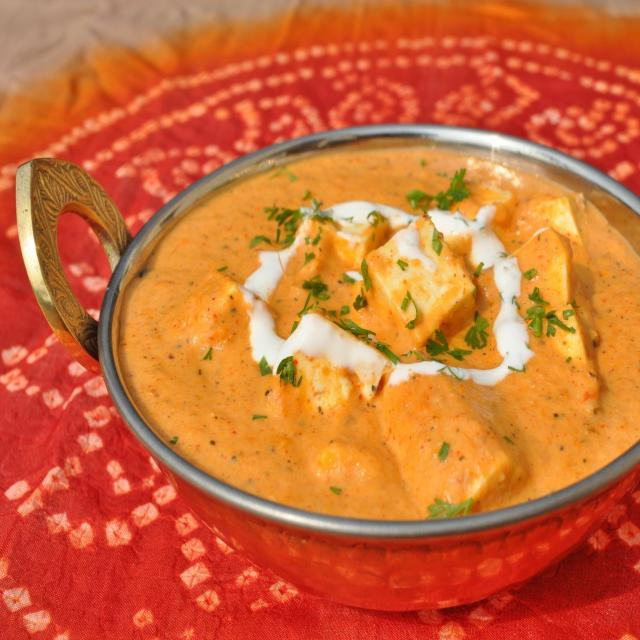ShahiPaneer: (104, 133, 640, 524)
